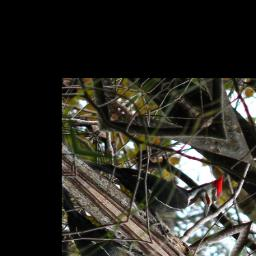Woodpecker: (80, 106, 238, 248)
